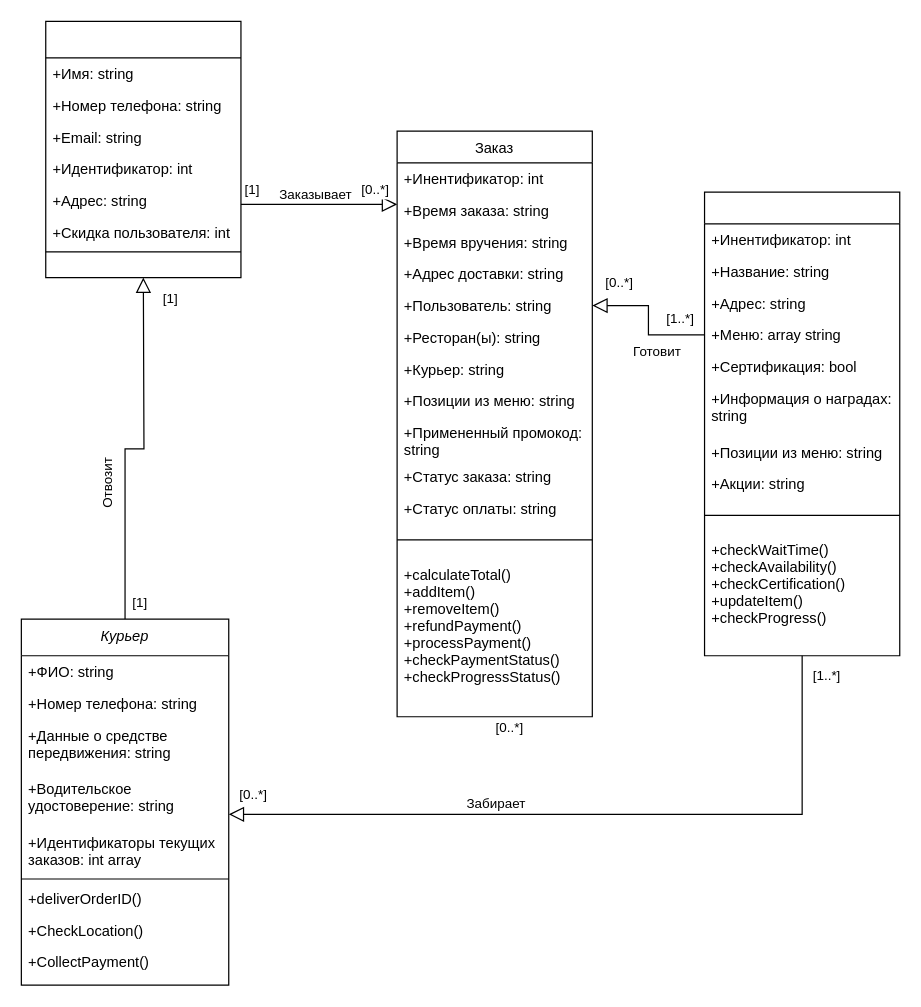
This 921x1007 diagram has some shape labels left out. The box of each missing label's shape, as (x1, y1, x2, y2) in pixels:
Пользователь: (45, 20, 241, 278)
Ресторан: (703, 191, 900, 656)
